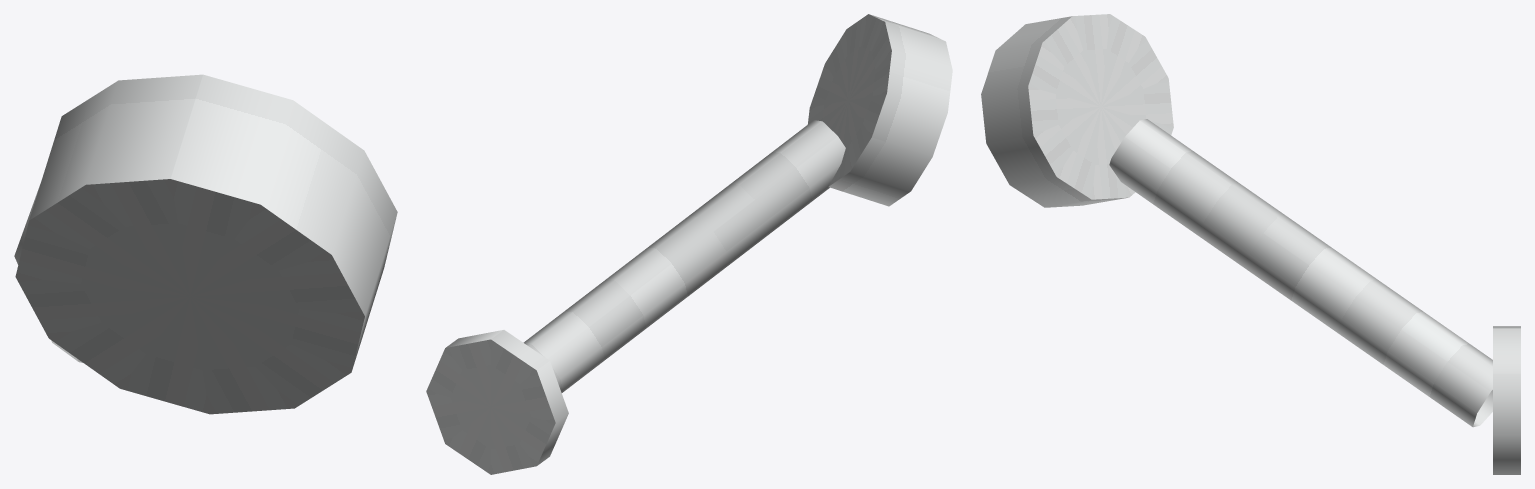
File: nycsignalarm_stub_67.obj
3 views of the same model, side by side, from view 1: azimuth 30°, elevation 25°; view 2: azimuth 150°, elevation 25°; view 3: azimuth 270°, elevation 25° (orthographic). The views are drawn at different scales.
Visible parts, largest first — view 1: nycsignalarm_stub_67; view 2: nycsignalarm_stub_67; view 3: nycsignalarm_stub_67.
Boxes of the visible parts, x1=… form: nycsignalarm_stub_67: x1=14, y1=74, x2=397, y2=414; nycsignalarm_stub_67: x1=426, y1=14, x2=952, y2=474; nycsignalarm_stub_67: x1=981, y1=14, x2=1520, y2=474.
Size of the model in its own units: 0.8698 by 0.8839 by 1.19.
